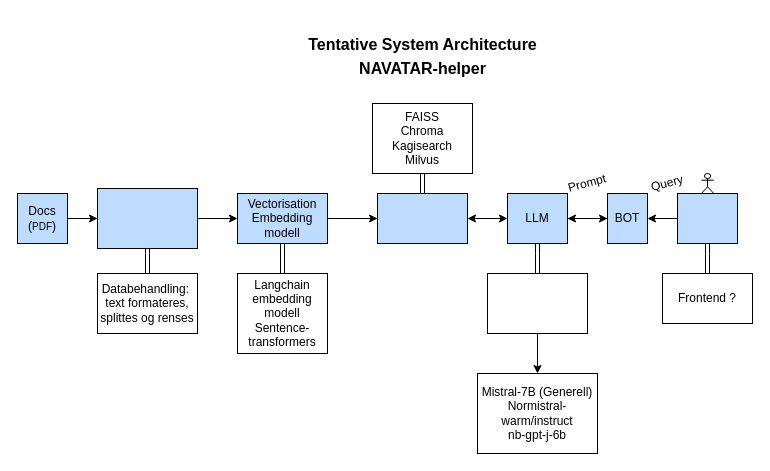
Image size: 770x471. Some labels were removed from this diagram. The centre of each missing label's shape, as x and y in pixels:
"Actor" goes at point (707, 183).
"DATA behandling" goes at point (147, 218).
"Huggingface" goes at point (537, 303).
"USER" goes at point (707, 218).
"Vector DB" goes at point (422, 218).
